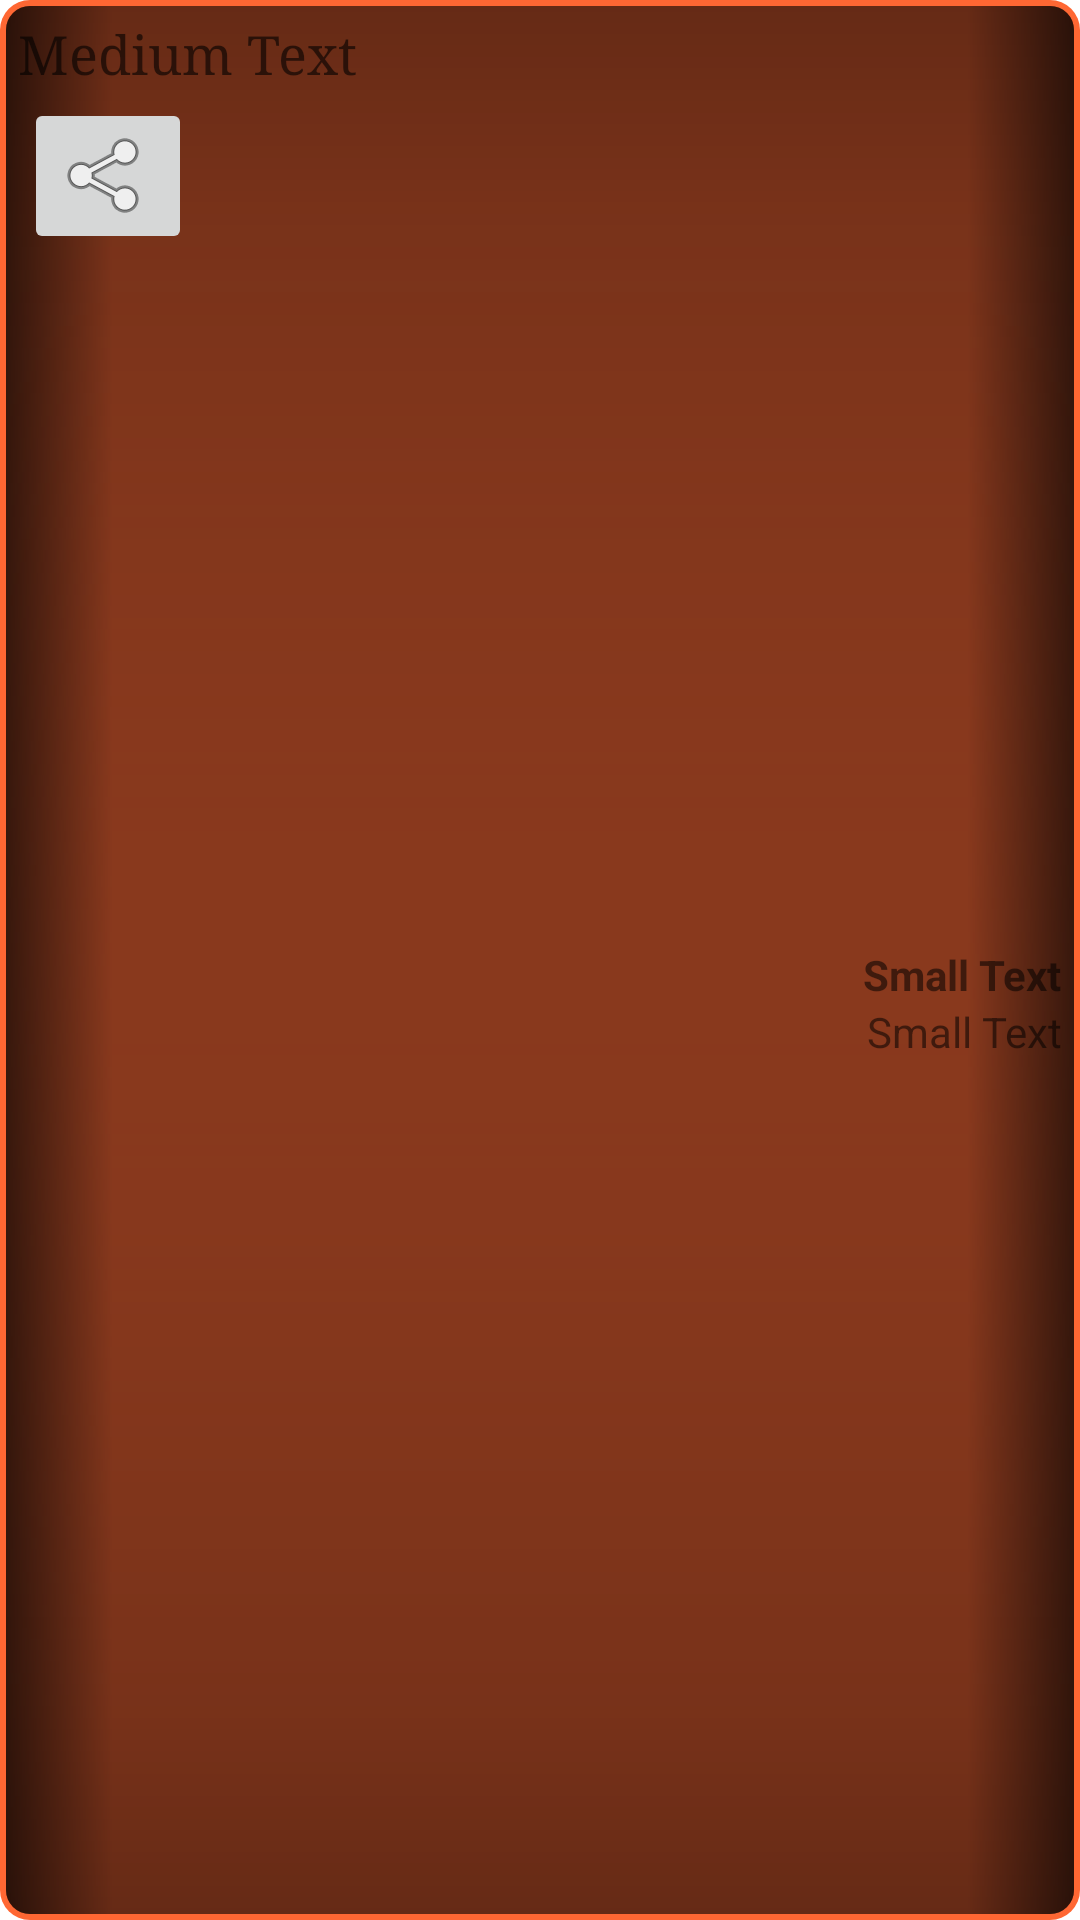

Named icons in this screenshot (1080px x 1920px) and their centers, [x,y]:
share: [108,176]
